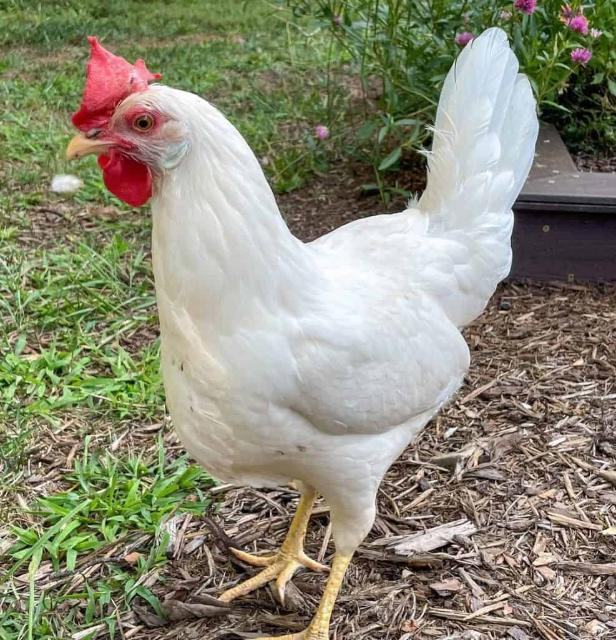Chicken: (65, 24, 540, 640)
